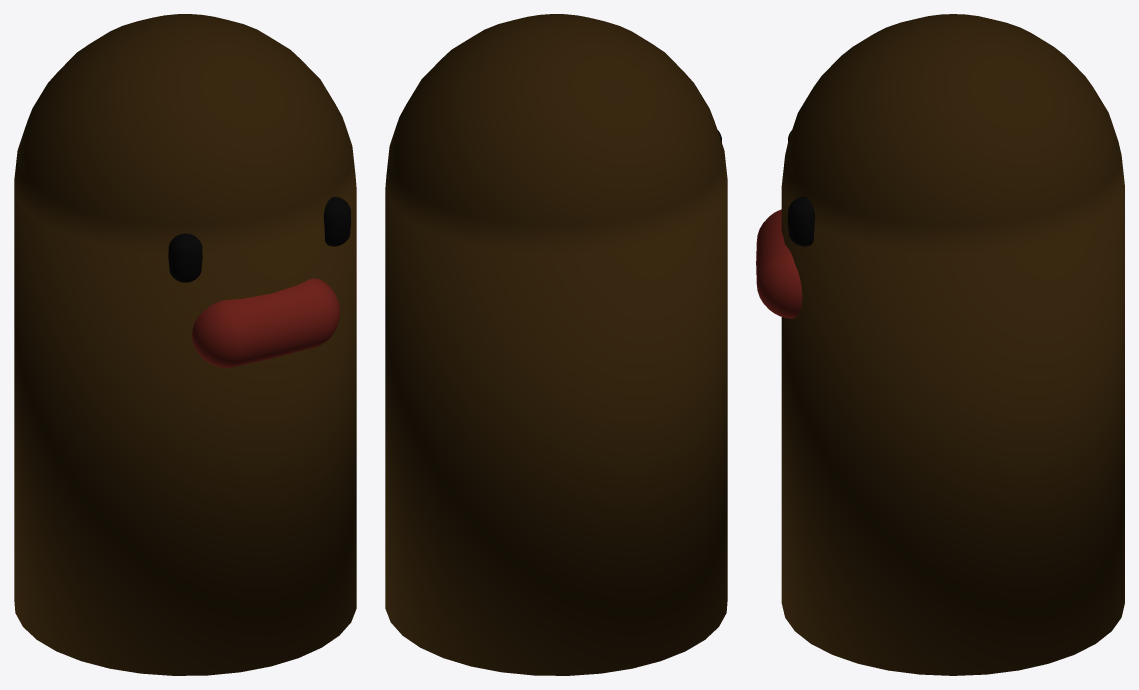
Rendered from Diglett low triangles SMOOTH FACE.fbx_Collection.fbx.
The picture shows the model from 3 angles, left to right: view 1: azimuth 30°, elevation 25°; view 2: azimuth 150°, elevation 25°; view 3: azimuth 270°, elevation 25°; orthographic projection.
Visible parts, largest first — view 1: Sphere; view 2: Sphere; view 3: Sphere.
Boxes of the visible parts, x1,y1,x2,y2 form: Sphere: (14, 14, 356, 675); Sphere: (385, 14, 727, 675); Sphere: (756, 14, 1124, 675).
Bounding box in the file's own units: 200 × 369 × 215.
Materials: 1 (1 with a texture image).
